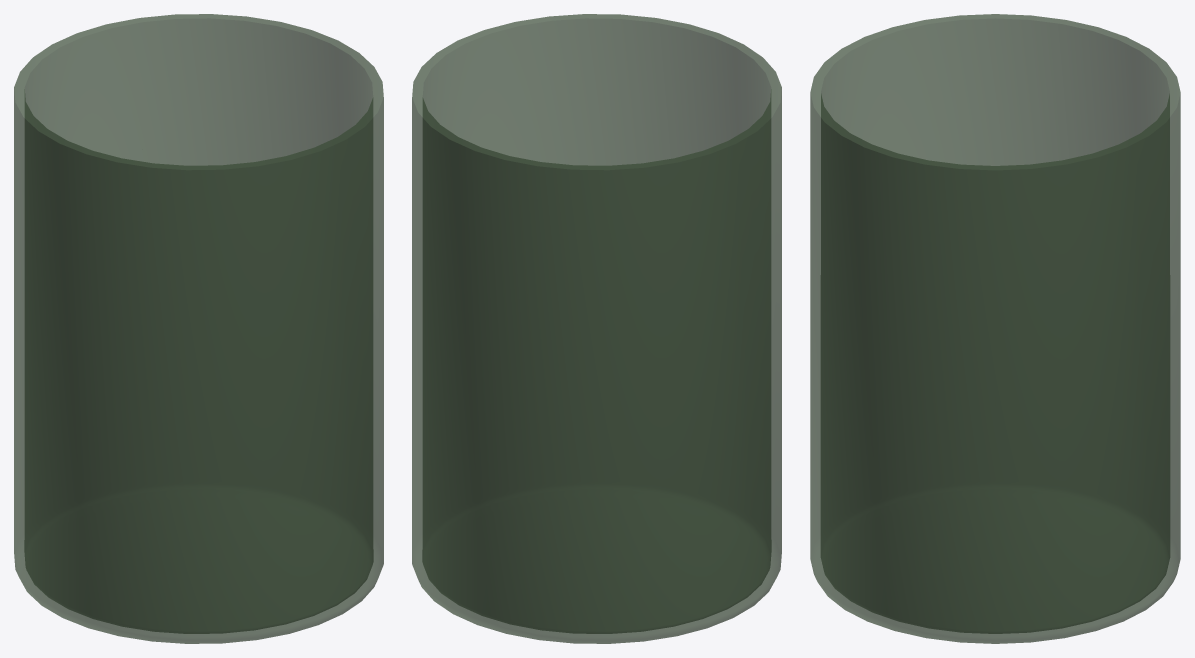
The model's file is Uranio.fbx.
3 renders of one model, left to right at view 1: azimuth 30°, elevation 25°; view 2: azimuth 150°, elevation 25°; view 3: azimuth 270°, elevation 25°, orthographic.
Parts seen in each view (by area): view 1: Uranio; view 2: Uranio; view 3: Uranio.
Part boxes in pixels (<box>): Uranio: <box>14,14,383,643</box>; Uranio: <box>412,14,781,643</box>; Uranio: <box>810,14,1180,643</box>.
Bounding box in the file's own units: 3.01 × 4.29 × 3.01.
